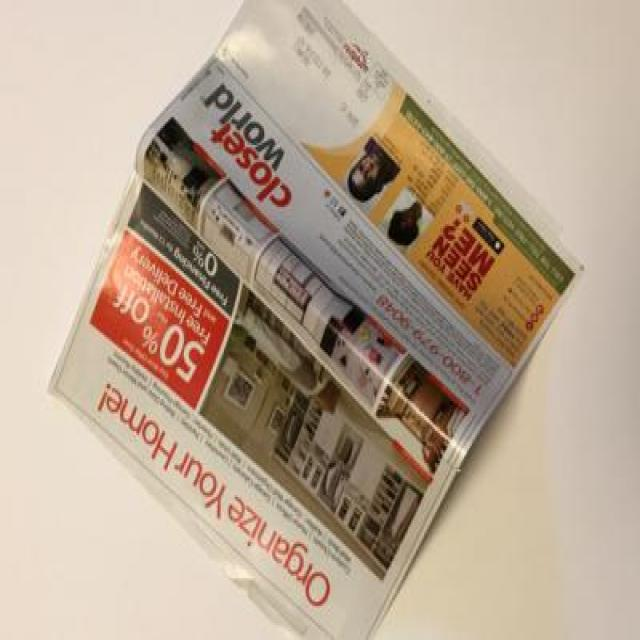paper: (67, 9, 572, 608)
